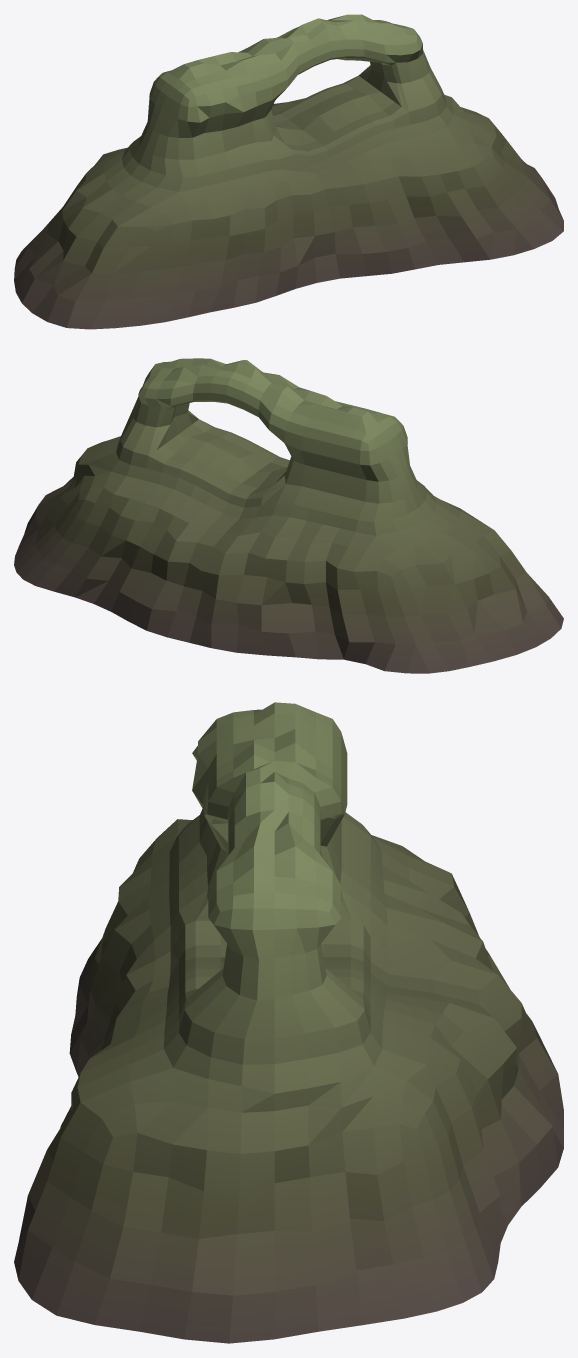
Rendered from Monuntain_Desert_02_Big_0_1.fbx.
The picture shows the model from 3 angles, top to bottom: view 1: azimuth 30°, elevation 25°; view 2: azimuth 150°, elevation 25°; view 3: azimuth 270°, elevation 25°; orthographic projection. The views are drawn at different scales.
Visible parts, largest first — view 1: Plateau_desert_004.001; view 2: Plateau_desert_004.001; view 3: Plateau_desert_004.001.
Part boxes in pixels (x1,y1,x2,y2): Plateau_desert_004.001: (14,14,563,329); Plateau_desert_004.001: (14,358,563,673); Plateau_desert_004.001: (14,702,563,1343).
Size of the model in its own units: 811 by 320 by 424.
